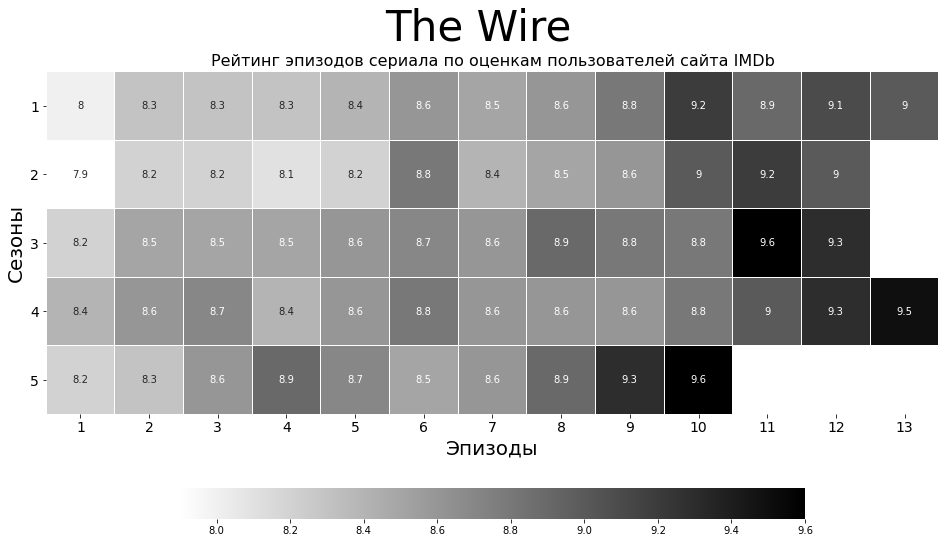

This screenshot's page, from the dashboard's own definition file:
{"tool":"tableau","page":{"name":"Прослушка","canvas":[1280,720],"ordinal":0},"visuals":[{"type":"image","param":"Image/wire-logo-2.png","box":[134,27,1068,74]},{"type":"worksheet","title":"Таблица","mark":"Square","rows":["season"],"cols":["episode_number"],"box":[130,119,1008,505]},{"type":"legend","title":"Таблица","param":"[federated.1vqkw0p1fl3d6u11afvh90fe32zm].[sum:rating:qk]","box":[471,620,368,76]}]}

Visuals, with their boxes in screenshot pixels (x1, y1, x2, y2), scaled from the page's 1280x720 canvas onto the 946x543 screenshot:
image: Rect(99, 20, 888, 76)
"Таблица" worksheet (Square marks): Rect(96, 90, 841, 471)
"Таблица" legend: Rect(348, 468, 620, 525)
